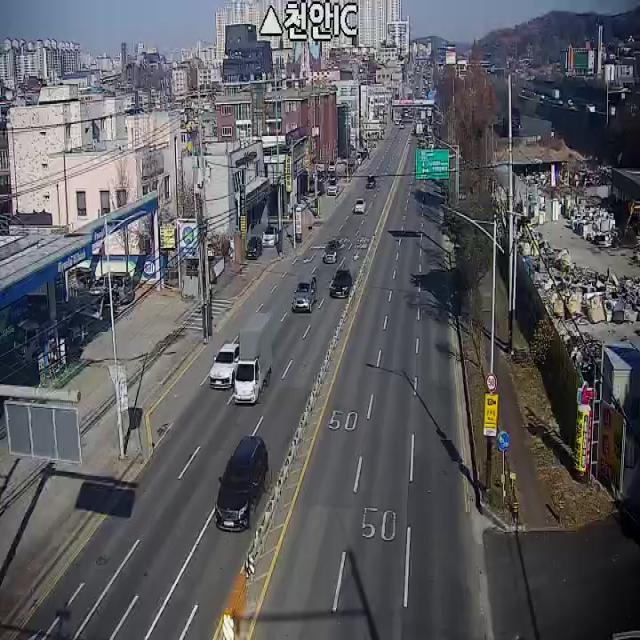Car: (214, 435, 270, 532), (209, 342, 239, 389), (96, 271, 133, 306), (292, 275, 317, 313), (330, 270, 352, 298), (245, 236, 263, 260), (262, 224, 278, 247), (324, 239, 339, 263), (327, 178, 339, 196), (355, 197, 366, 214), (367, 177, 376, 190)
Truck: (234, 312, 273, 404)
